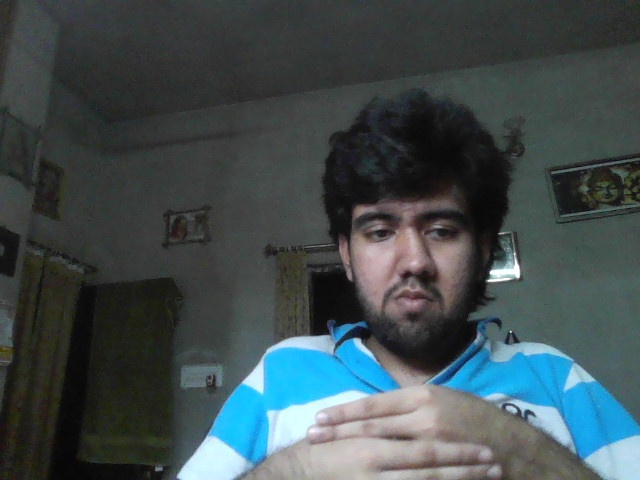Name: (291, 384, 543, 480)
